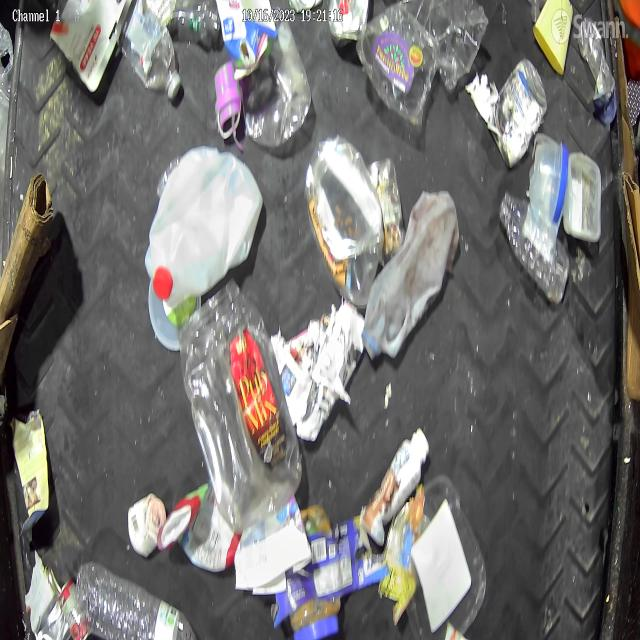can: (486, 57, 548, 171), (28, 564, 62, 634), (328, 0, 370, 51), (58, 577, 89, 640), (34, 598, 72, 640)
milk_jug: (148, 140, 265, 318), (362, 188, 461, 362)
plastic_bottle: (74, 556, 197, 640), (498, 190, 570, 305), (119, 0, 182, 102), (164, 0, 221, 50)
